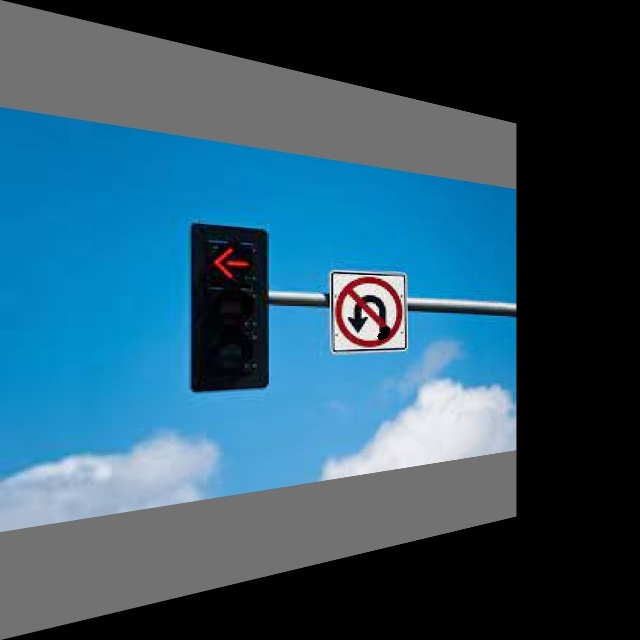U_Turn_Prohibited: (333, 272, 406, 351)
